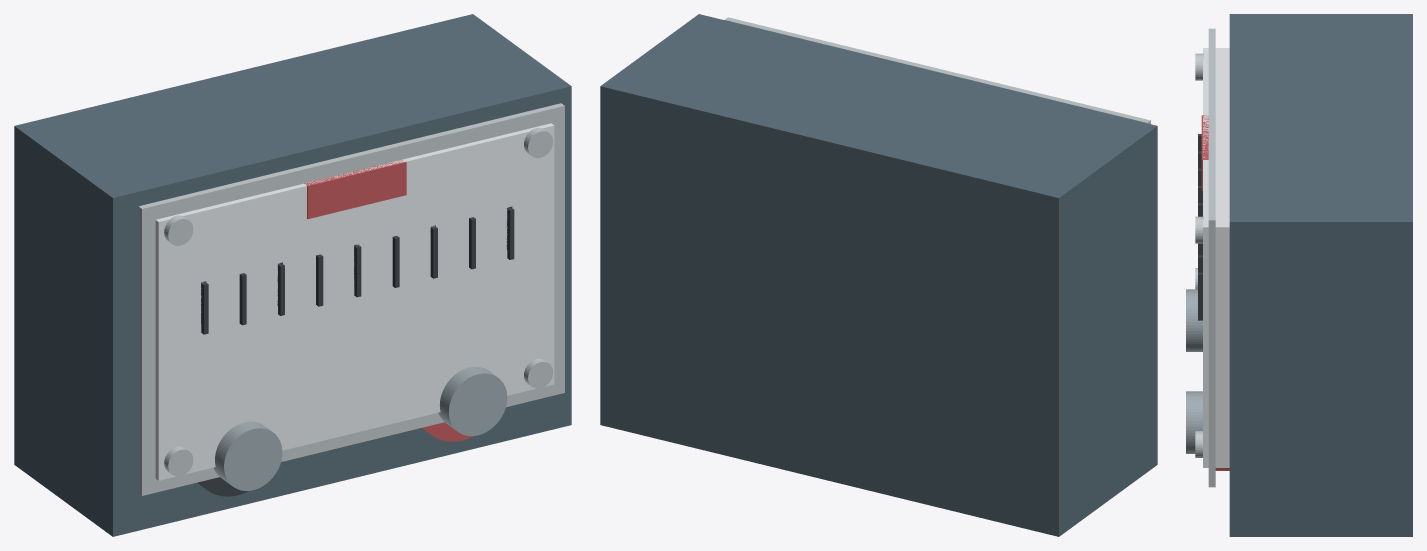
Rendered from ammeter_lod0.glb.
The picture shows the model from 3 angles, left to right: view 1: azimuth 30°, elevation 25°; view 2: azimuth 150°, elevation 25°; view 3: azimuth 270°, elevation 25°; orthographic projection. The views are drawn at different scales.
Parts seen in each view (by area): view 1: AMM_BODY_MAT_METAL_DARK, AMM_FACE_INSET_MAT_WHITE, AMM_FACE_BEZEL_MAT_STAINLESS, AMM_LABEL_MAT_RED, AMM_PORT_COM_MAT_METAL_BRUSHED, AMM_PORT_INPUT_MAT_METAL_BRUSHED, AMM_FACE_SCREW_2_MAT_STAINLESS, AMM_FACE_SCREW_0_MAT_STAINLESS, AMM_FACE_SCREW_1_MAT_STAINLESS, AMM_FACE_SCREW_3_MAT_STAINLESS; view 2: AMM_BODY_MAT_METAL_DARK, AMM_FACE_BEZEL_MAT_STAINLESS; view 3: AMM_BODY_MAT_METAL_DARK, AMM_FACE_MAT_WHITE, AMM_FACE_BEZEL_MAT_STAINLESS, AMM_FACE_INSET_MAT_WHITE, AMM_PORT_COM_MAT_METAL_BRUSHED, AMM_PORT_INPUT_MAT_METAL_BRUSHED, AMM_LABEL_MAT_RED.
Boxes of the visible parts, <box> form: AMM_BODY_MAT_METAL_DARK: <box>14,14,571,536</box>; AMM_FACE_INSET_MAT_WHITE: <box>155,123,554,480</box>; AMM_FACE_BEZEL_MAT_STAINLESS: <box>138,103,564,495</box>; AMM_LABEL_MAT_RED: <box>304,160,406,218</box>; AMM_PORT_COM_MAT_METAL_BRUSHED: <box>214,421,282,490</box>; AMM_PORT_INPUT_MAT_METAL_BRUSHED: <box>438,366,507,436</box>; AMM_FACE_SCREW_2_MAT_STAINLESS: <box>164,215,193,245</box>; AMM_FACE_SCREW_0_MAT_STAINLESS: <box>164,446,193,476</box>; AMM_FACE_SCREW_1_MAT_STAINLESS: <box>524,358,553,388</box>; AMM_FACE_SCREW_3_MAT_STAINLESS: <box>524,127,553,158</box>; AMM_BODY_MAT_METAL_DARK: <box>600,14,1157,536</box>; AMM_FACE_BEZEL_MAT_STAINLESS: <box>724,17,1150,124</box>; AMM_BODY_MAT_METAL_DARK: <box>1229,14,1412,536</box>; AMM_FACE_MAT_WHITE: <box>1215,48,1229,467</box>; AMM_FACE_BEZEL_MAT_STAINLESS: <box>1208,28,1215,487</box>; AMM_FACE_INSET_MAT_WHITE: <box>1203,48,1208,467</box>; AMM_PORT_COM_MAT_METAL_BRUSHED: <box>1186,289,1202,351</box>; AMM_PORT_INPUT_MAT_METAL_BRUSHED: <box>1186,391,1202,453</box>; AMM_LABEL_MAT_RED: <box>1201,115,1208,190</box>.
Bounding box in the file's own units: 1.02 × 0.74 × 0.47.
